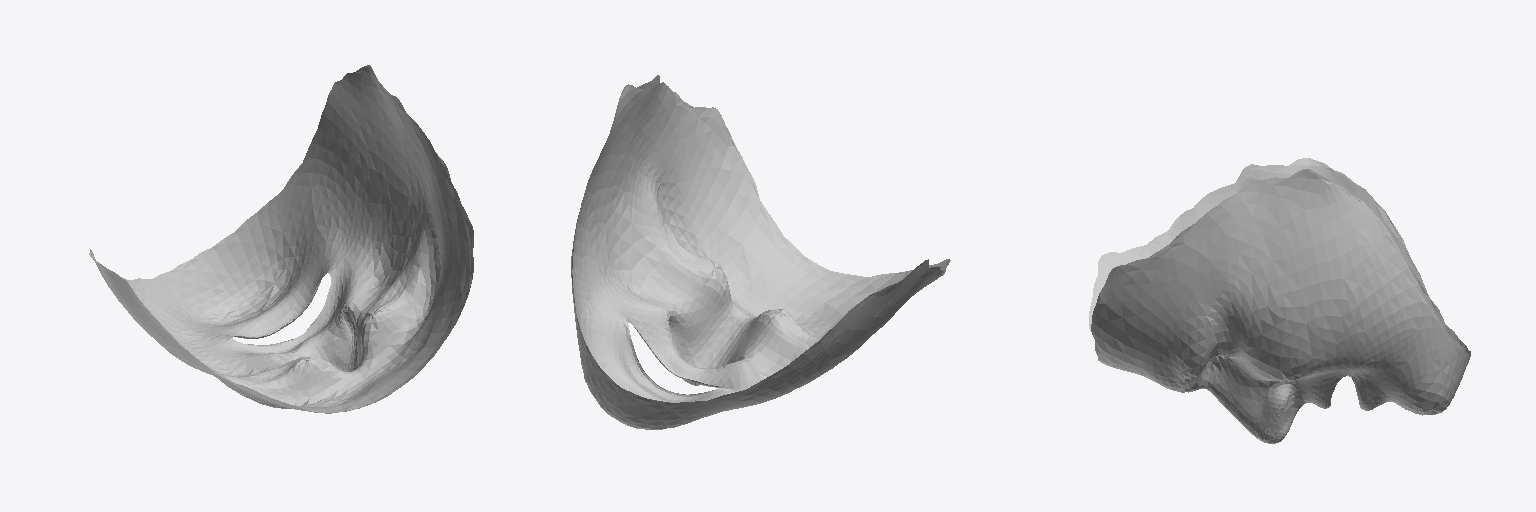
The model's file is face_gab_sfm16.obj.
3 views of the same model, side by side, from view 1: azimuth 30°, elevation 25°; view 2: azimuth 150°, elevation 25°; view 3: azimuth 270°, elevation 25° (orthographic).
Size of the model in its own units: 163 by 155 by 179.